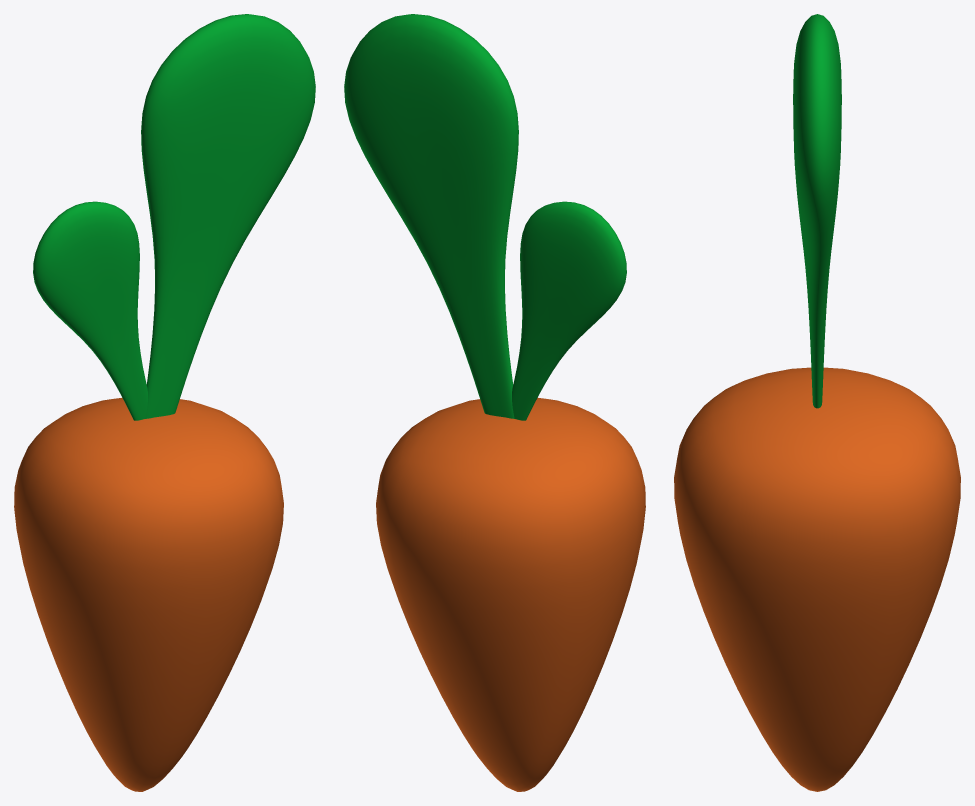
Rendered from gold_carrot.glb.
3 views of the same model, side by side, from view 1: azimuth 30°, elevation 25°; view 2: azimuth 150°, elevation 25°; view 3: azimuth 270°, elevation 25° (orthographic). The views are drawn at different scales.
Visible parts, largest first — view 1: Carrot; view 2: Carrot; view 3: Carrot.
Boxes of the visible parts, box(x1,y1,x2,y2) form: Carrot: box(14, 14, 315, 791); Carrot: box(344, 14, 645, 791); Carrot: box(674, 14, 960, 791).
Size of the model in its own units: 0.4561 by 1.17 by 0.3721.
